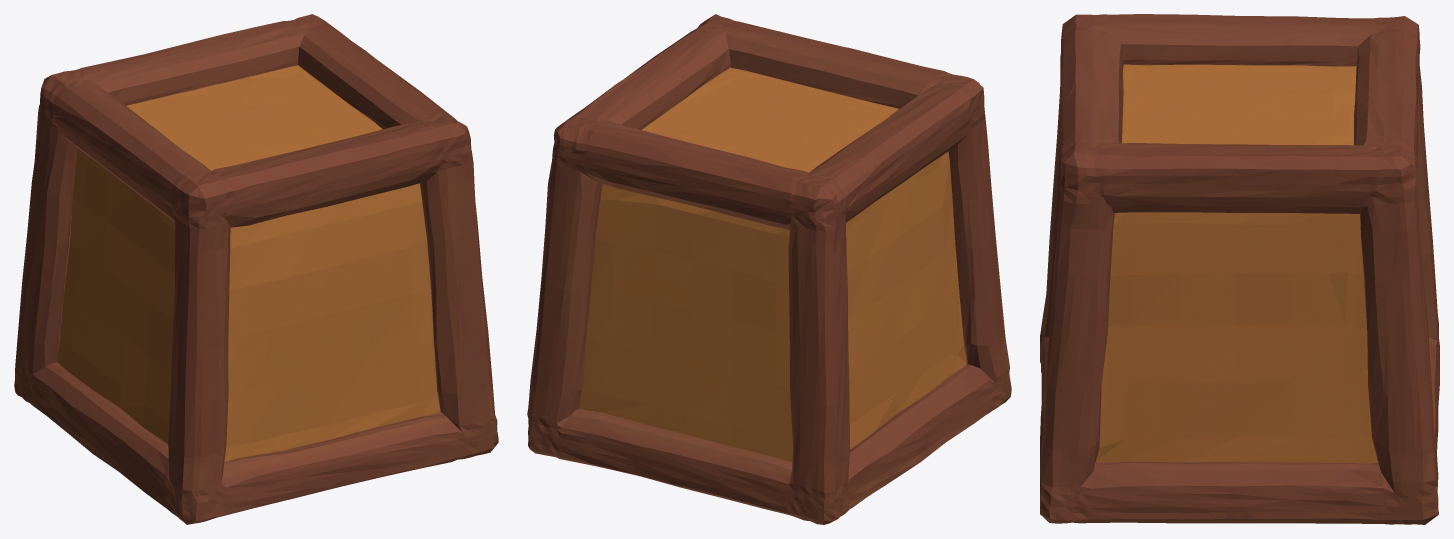
The model's file is Simple_crate.glb.
The picture shows the model from 3 angles, left to right: view 1: azimuth 30°, elevation 25°; view 2: azimuth 150°, elevation 25°; view 3: azimuth 270°, elevation 25°; orthographic projection. The views are drawn at different scales.
Visible parts, largest first — view 1: mesh_node; view 2: mesh_node; view 3: mesh_node.
Boxes of the visible parts, bbox=[...] form: mesh_node: bbox=[14, 14, 498, 524]; mesh_node: bbox=[527, 14, 1011, 524]; mesh_node: bbox=[1040, 14, 1439, 524].
Bounding box in the file's own units: 1 × 0.9941 × 1.
Materials: 1 (1 with a texture image).
